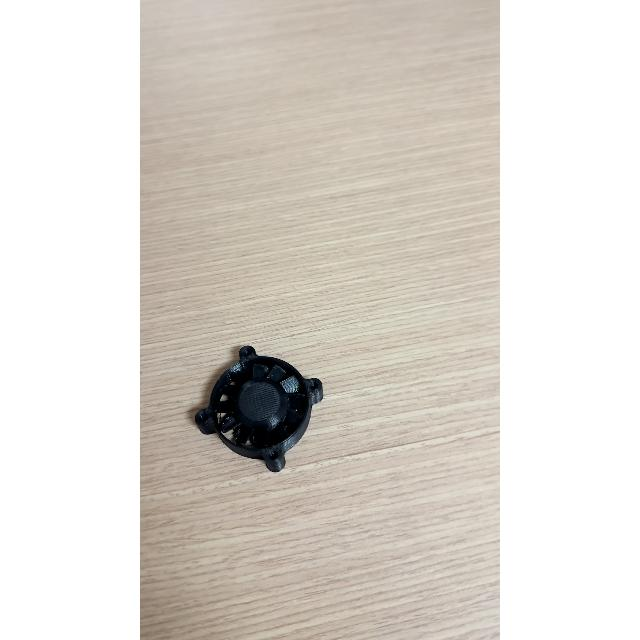Pieza_4: (170, 337, 346, 489)
